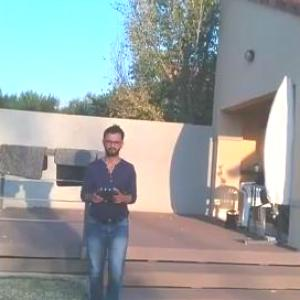follow: (78, 117, 144, 299)
